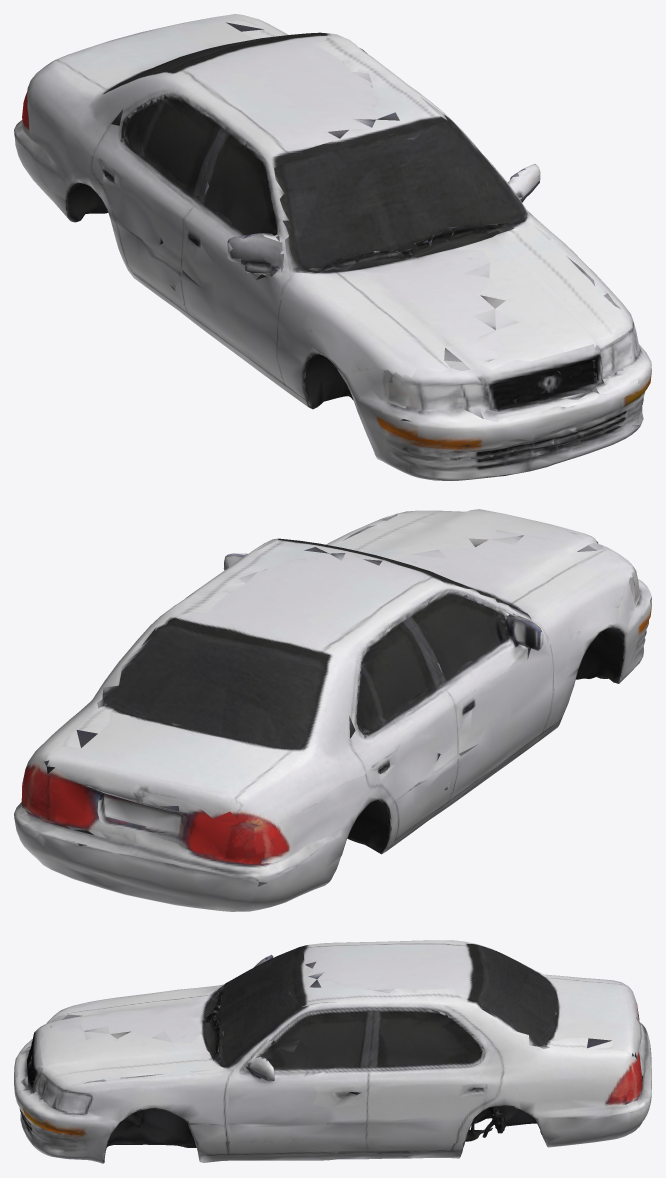
The model's file is levias_zs_89.obj.
3 views of the same model, one above another, from view 1: azimuth 30°, elevation 25°; view 2: azimuth 150°, elevation 25°; view 3: azimuth 270°, elevation 25° (orthographic). The views are drawn at different scales.
Parts seen in each view (by area): view 1: body; view 2: body; view 3: body.
Part boxes in pixels (<box>): body: <box>14,14,651,480</box>; body: <box>14,509,651,911</box>; body: <box>14,940,651,1163</box>.
Size of the model in its own units: 2.28 by 1.46 by 5.4.
